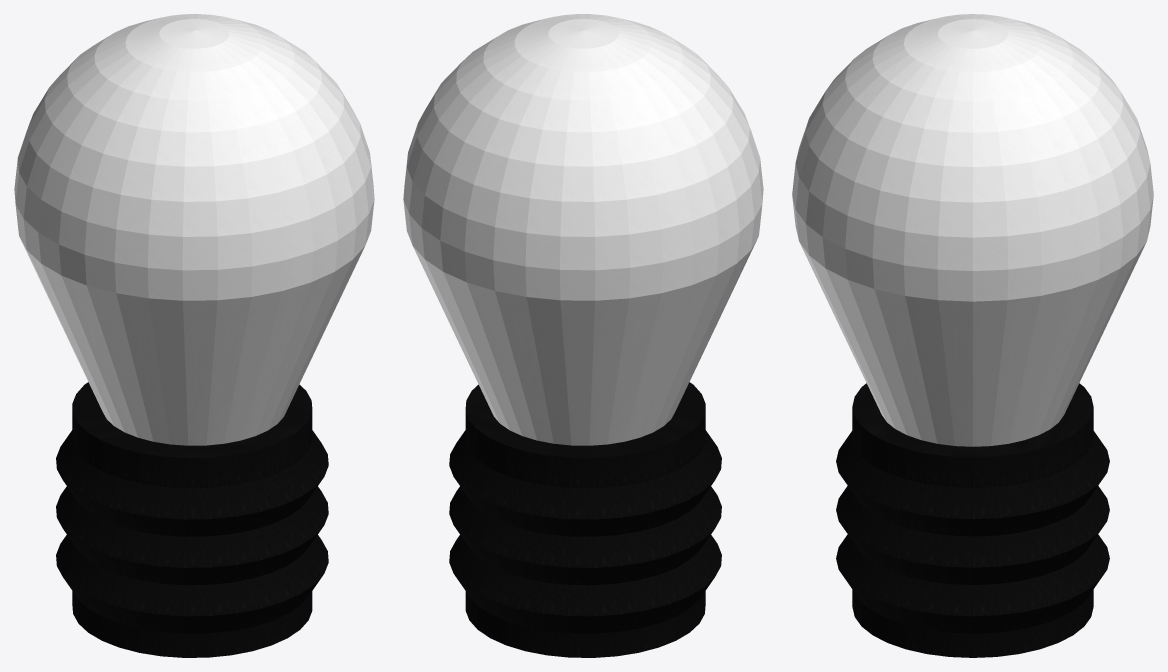
Rendered from LightBulb.fbx.
The picture shows the model from 3 angles, left to right: view 1: azimuth 30°, elevation 25°; view 2: azimuth 150°, elevation 25°; view 3: azimuth 270°, elevation 25°; orthographic projection.
Visible parts, largest first — view 1: Sphere, Cylinder; view 2: Sphere, Cylinder; view 3: Sphere, Cylinder.
Boxes of the visible parts, left/top/right/bottom form: Sphere: left=14, top=14, right=374, bottom=445; Cylinder: left=56, top=382, right=328, bottom=657; Sphere: left=403, top=14, right=763, bottom=445; Cylinder: left=449, top=382, right=721, bottom=657; Sphere: left=792, top=14, right=1153, bottom=446; Cylinder: left=836, top=383, right=1109, bottom=657.
Bounding box in the file's own units: 300 × 559 × 300.
